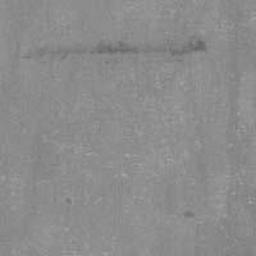Inclusion: (22, 35, 207, 63)
